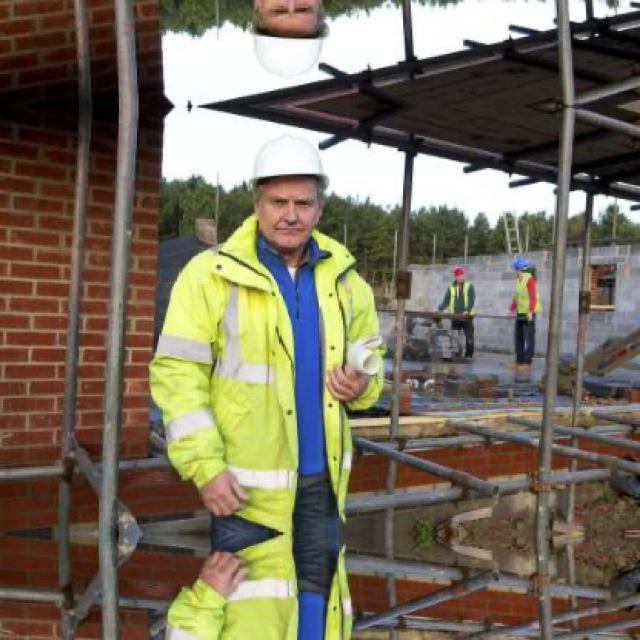helmet: (238, 126, 340, 250), (237, 0, 340, 88), (449, 261, 471, 285), (509, 256, 531, 279)
